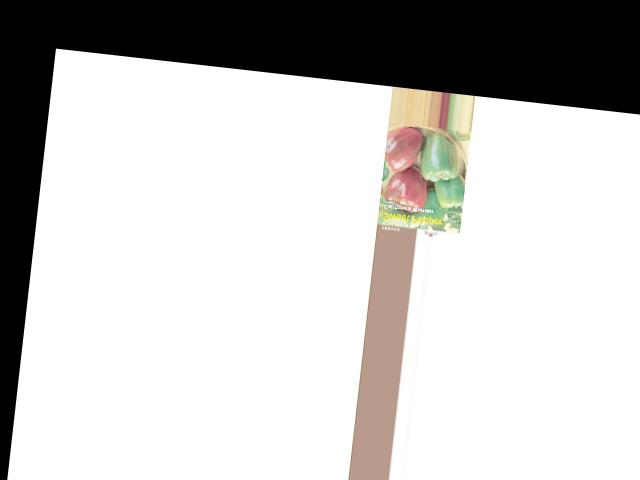bell_pepper: (435, 166, 468, 213)
